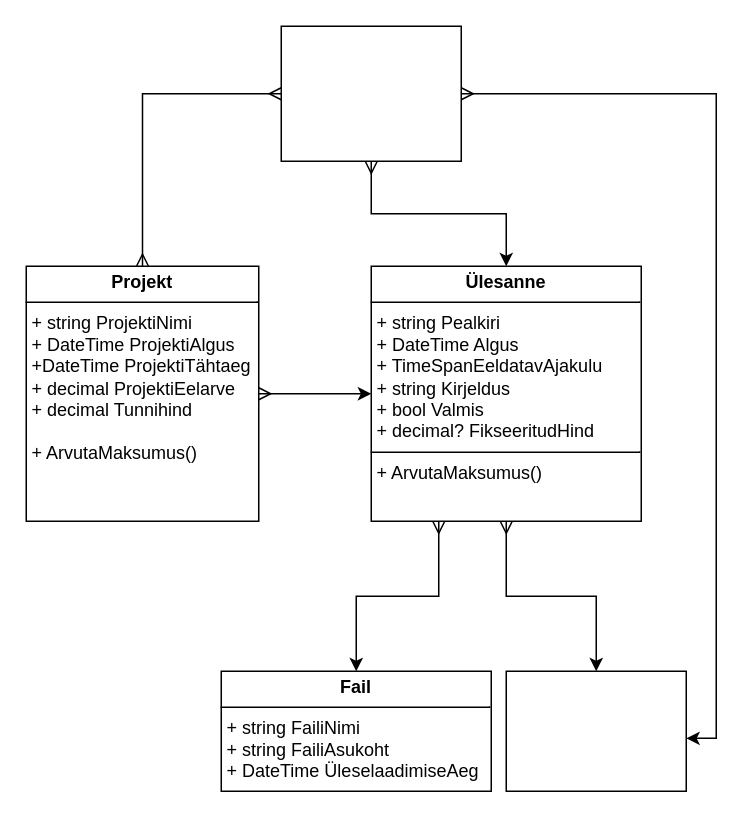
Image size: 756x818. Some labels were removed from this diagram. Here are the shapes that lost their labels. From the top down, the box of each, then its label:
(280, 25, 461, 161): Kasutja + string Nimi + string Email + string Parool
(505, 670, 686, 791): TööLogi + DateTime Kuupäev + double Ajakulu + string Kirieldus
